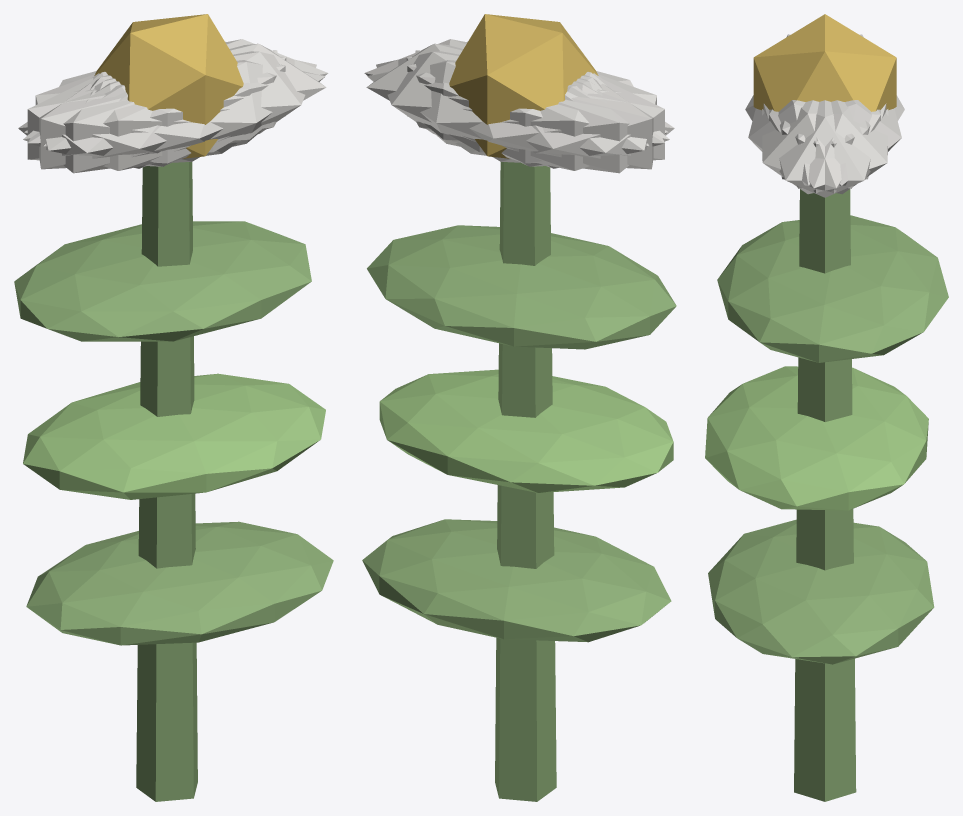
File: gardenia-jasminoides.glb
The picture shows the model from 3 angles, left to right: view 1: azimuth 30°, elevation 25°; view 2: azimuth 150°, elevation 25°; view 3: azimuth 270°, elevation 25°; orthographic projection.
Parts seen in each view (by area): view 1: leaf1, leaf0, leaf2, stem, center, petal1, petal6, petal2, petal5, petal7, petal0, petal4 (+2 smaller); view 2: leaf2, leaf0, leaf1, stem, center, petal8, petal3, petal7, petal4, petal2, petal0, petal5 (+2 smaller); view 3: leaf2, leaf0, leaf1, stem, center, petal0, petal4, petal5, petal1, petal8.
Boxes of the visible parts, x1,y1,x2,y2 form: leaf1: (23, 373, 325, 499); leaf0: (26, 521, 333, 645); leaf2: (14, 221, 311, 341); stem: (136, 162, 197, 801); center: (94, 14, 243, 158); petal1: (23, 60, 325, 170); petal6: (18, 73, 237, 173); petal2: (39, 50, 277, 169); petal5: (43, 51, 316, 163); petal7: (27, 56, 286, 166); petal0: (94, 43, 326, 152); petal4: (24, 39, 328, 143); leaf2: (367, 225, 676, 349); leaf0: (362, 519, 671, 642); leaf1: (379, 369, 673, 492); stem: (495, 162, 556, 801); center: (449, 14, 598, 158); petal8: (367, 60, 669, 170); petal3: (455, 73, 674, 173); petal7: (415, 50, 653, 169); petal4: (376, 51, 649, 163); petal2: (406, 56, 664, 166); petal0: (366, 43, 598, 152); petal5: (364, 39, 668, 143); leaf2: (717, 215, 948, 362); leaf0: (708, 519, 934, 664); leaf1: (705, 366, 928, 510); stem: (794, 189, 856, 801); center: (753, 14, 896, 111); petal0: (763, 100, 886, 197); petal4: (769, 100, 888, 194); petal5: (762, 100, 880, 194); petal1: (748, 100, 870, 185); petal8: (780, 100, 901, 185).
Bounding box in the file's own units: 0.1452 × 0.3567 × 0.1044.
